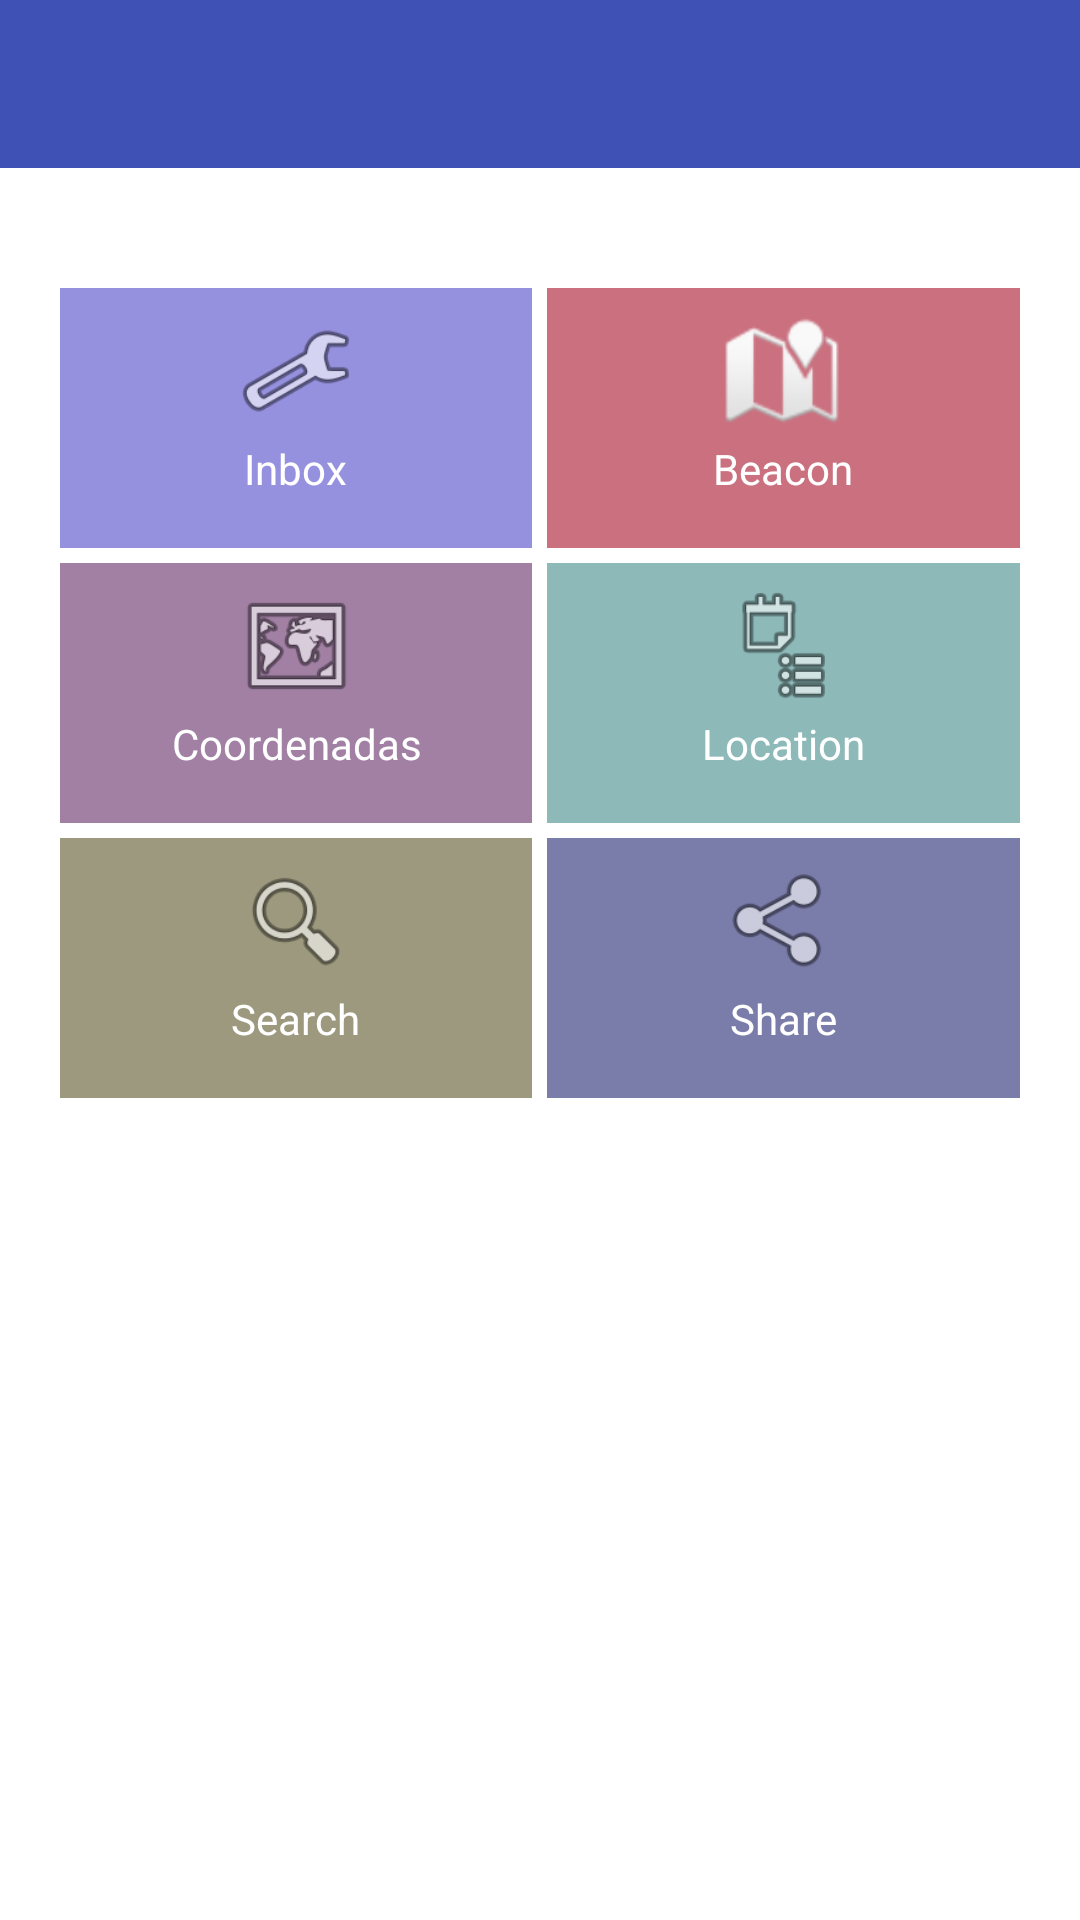

Point at icon controls on the screen. Image size 1080*1920, points as point (x, y).
agenda: point (783, 645)
manage: point (296, 371)
